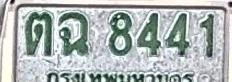1: (199, 13, 214, 58)
4: (165, 12, 190, 57), (138, 11, 161, 56)
8: (108, 11, 132, 55)
A09: (58, 11, 90, 55)
A21: (25, 11, 53, 56)
